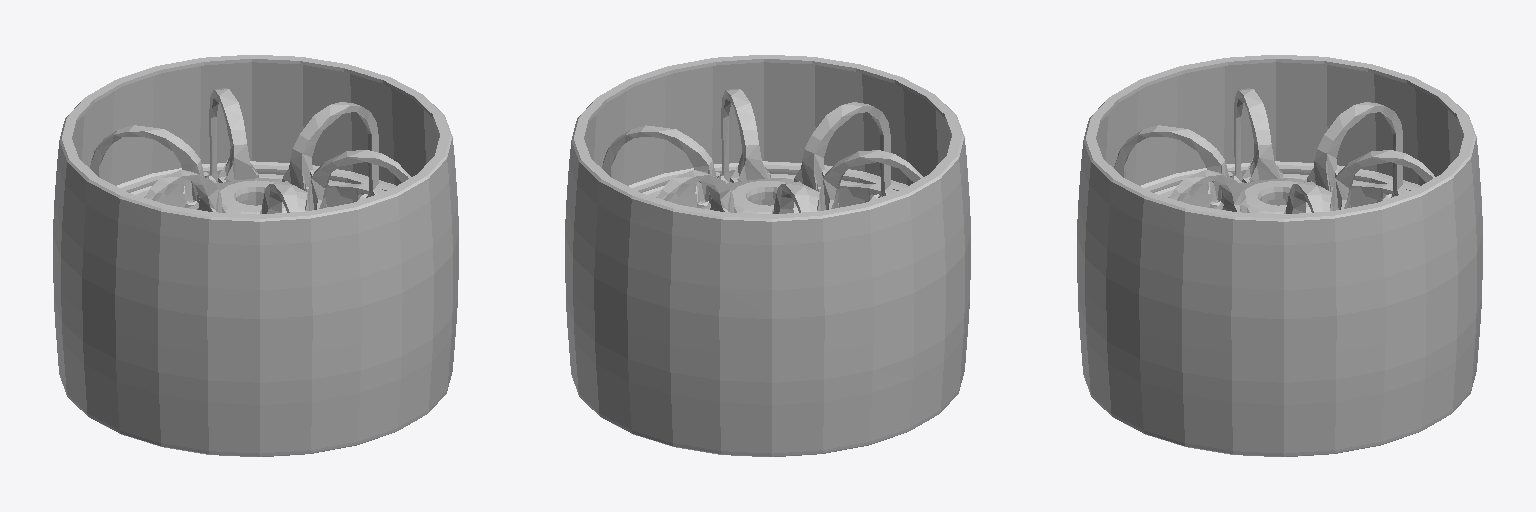
The model's file is Wheel_RightFront.obj.
3 views of the same model, side by side, from view 1: azimuth 30°, elevation 25°; view 2: azimuth 150°, elevation 25°; view 3: azimuth 270°, elevation 25° (orthographic).
Visible parts, largest first — view 1: Wheel_RightFront.obj; view 2: Wheel_RightFront.obj; view 3: Wheel_RightFront.obj.
Part boxes in pixels (x1,y1,x2,y2): Wheel_RightFront.obj: (53, 55, 458, 456); Wheel_RightFront.obj: (565, 55, 970, 456); Wheel_RightFront.obj: (1077, 55, 1482, 456).
Bounding box in the file's own units: 0.5098 × 0.3306 × 0.5098.